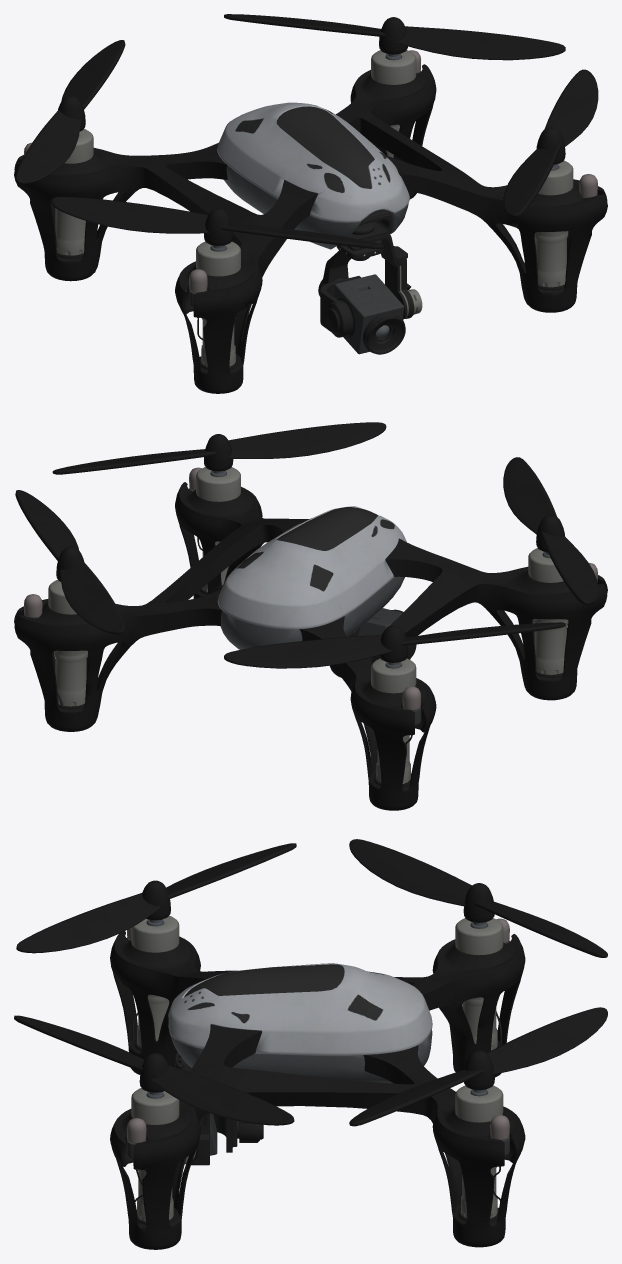
File: fab5.glb
3 views of the same model, one above another, from view 1: azimuth 30°, elevation 25°; view 2: azimuth 150°, elevation 25°; view 3: azimuth 270°, elevation 25° (orthographic). The views are drawn at different scales.
Parts seen in each view (by area): view 1: node_id149; view 2: node_id149; view 3: node_id149.
Part boxes in pixels (x1,y1,x2,y2): node_id149: [14, 14, 607, 393]; node_id149: [14, 422, 607, 810]; node_id149: [14, 839, 607, 1249].
Bounding box in the file's own units: 0.512 × 0.1608 × 0.4518.
Materials: 1 (1 with a texture image).
